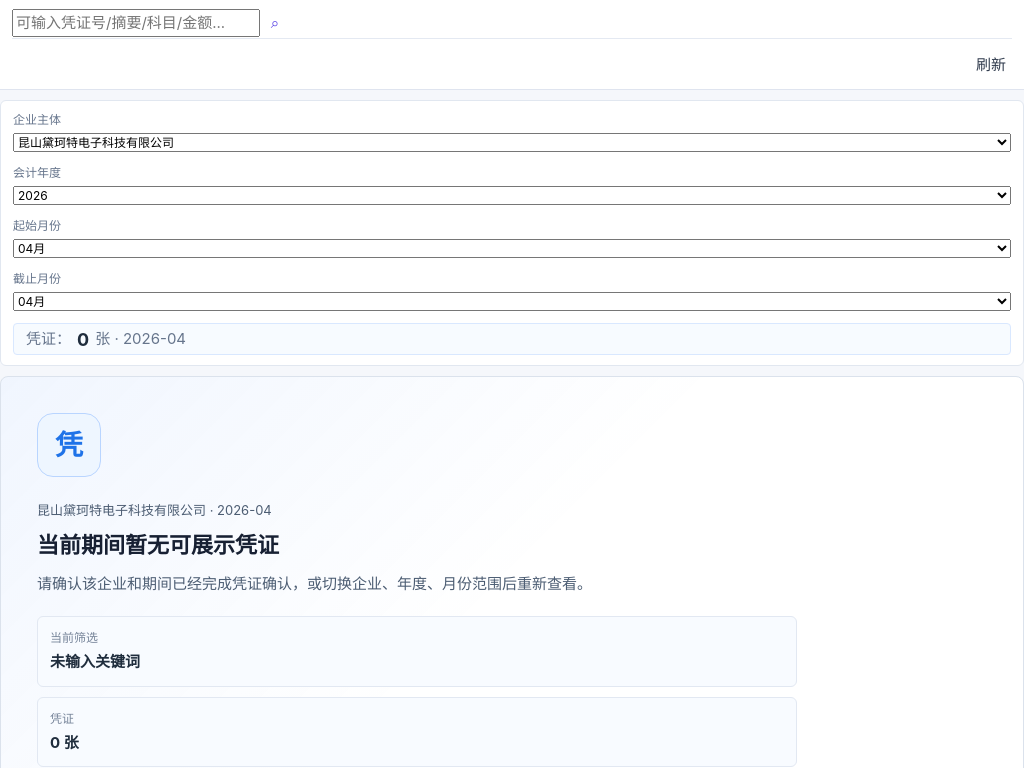
Test case: VoucherManagementView › lets operators clear keyword from the empty search result state
In the field with placeholder "可输入凭证号/摘要/科目/金额...": (136, 23) x1=12 y1=9 x2=260 y2=37, type "不存在"
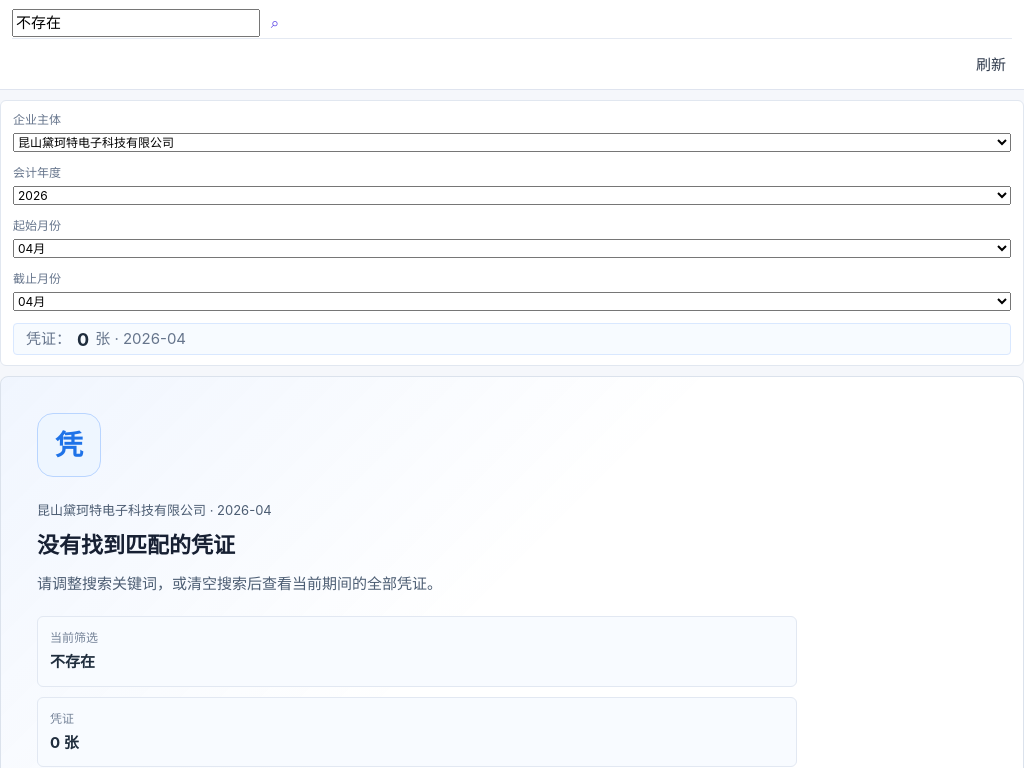
Click the button with class "icon-search-button": (275, 23) x1=260 y1=8 x2=290 y2=38
(page scrolled)
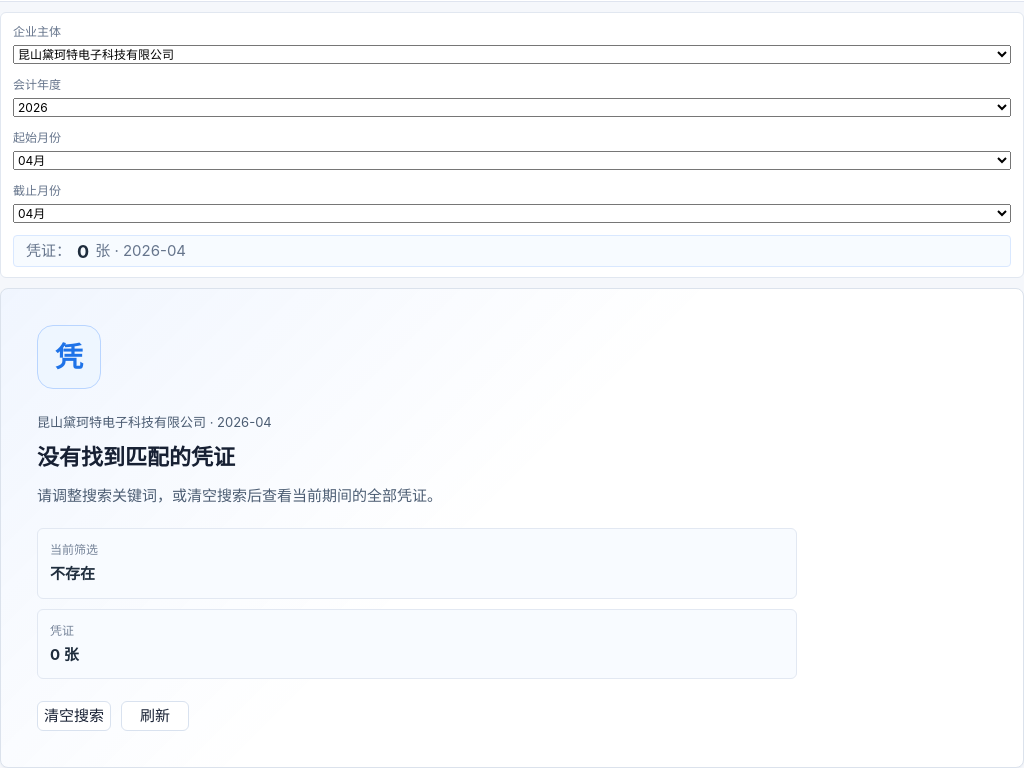
Result: the text "没有找到匹配的凭证" is shown at x1=37 y1=444 x2=235 y2=470
Result: the button "清空搜索" is shown
Click the button "清空搜索": (74, 716) x1=37 y1=701 x2=111 y2=731
(page scrolled)
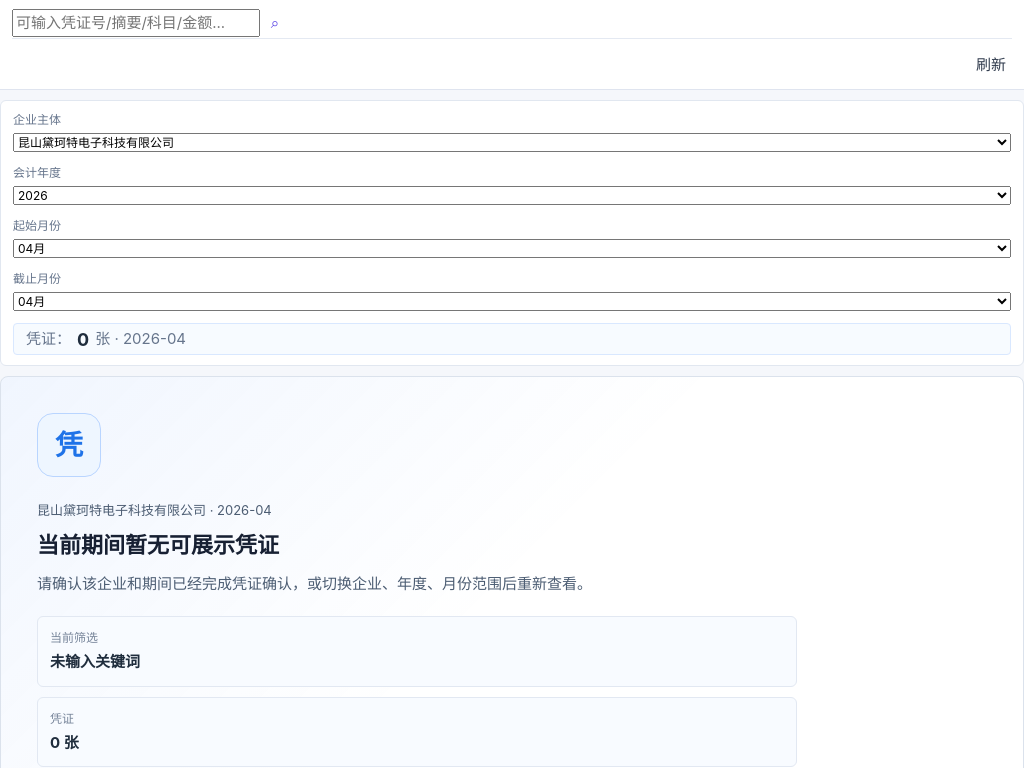
Result: the field with placeholder "可输入凭证号/摘要/科目/金额..." is empty at x1=12 y1=9 x2=260 y2=37
